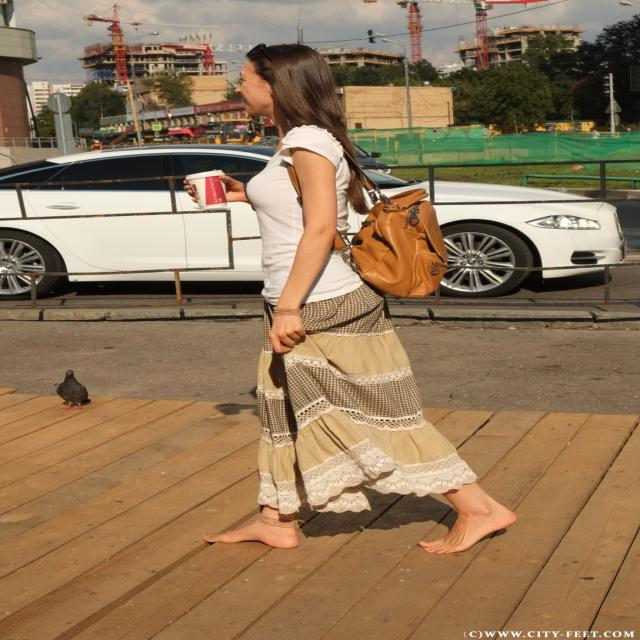Barefoots: (418, 505, 518, 554), (202, 526, 300, 549)
